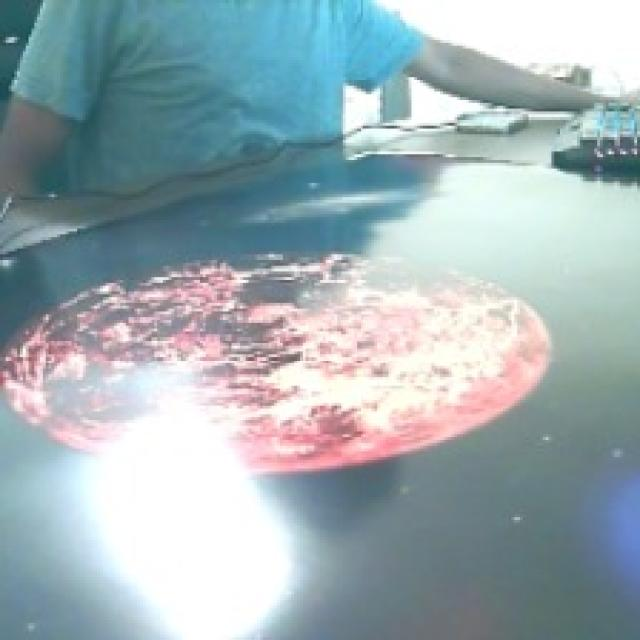Galaxy: (249, 182, 444, 228)
Sun: (0, 248, 559, 474)
